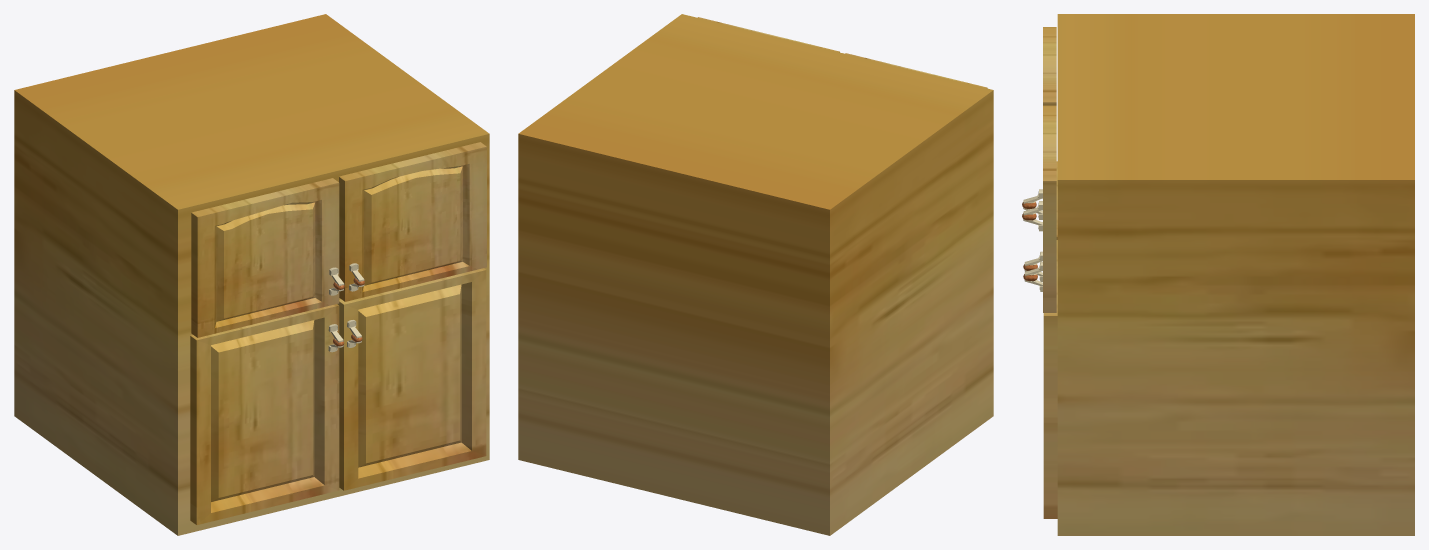
The model's file is sh-contrib-pantry.glb.
3 renders of one model, left to right at view 1: azimuth 30°, elevation 25°; view 2: azimuth 150°, elevation 25°; view 3: azimuth 270°, elevation 25°, orthographic. The views are drawn at different scales.
Parts seen in each view (by area): view 1: PolyMesh_1, Tube_1_7; view 2: PolyMesh_1; view 3: PolyMesh_1, Tube_1_7.
Boxes of the visible parts, x1,y1,x2,y2 form: PolyMesh_1: [14, 14, 489, 535]; Tube_1_7: [328, 263, 364, 352]; PolyMesh_1: [518, 14, 993, 535]; PolyMesh_1: [1043, 14, 1414, 535]; Tube_1_7: [1023, 189, 1042, 291].
Bounding box in the file's own units: 1 × 1 × 1.
3 materials, 2 textured.
